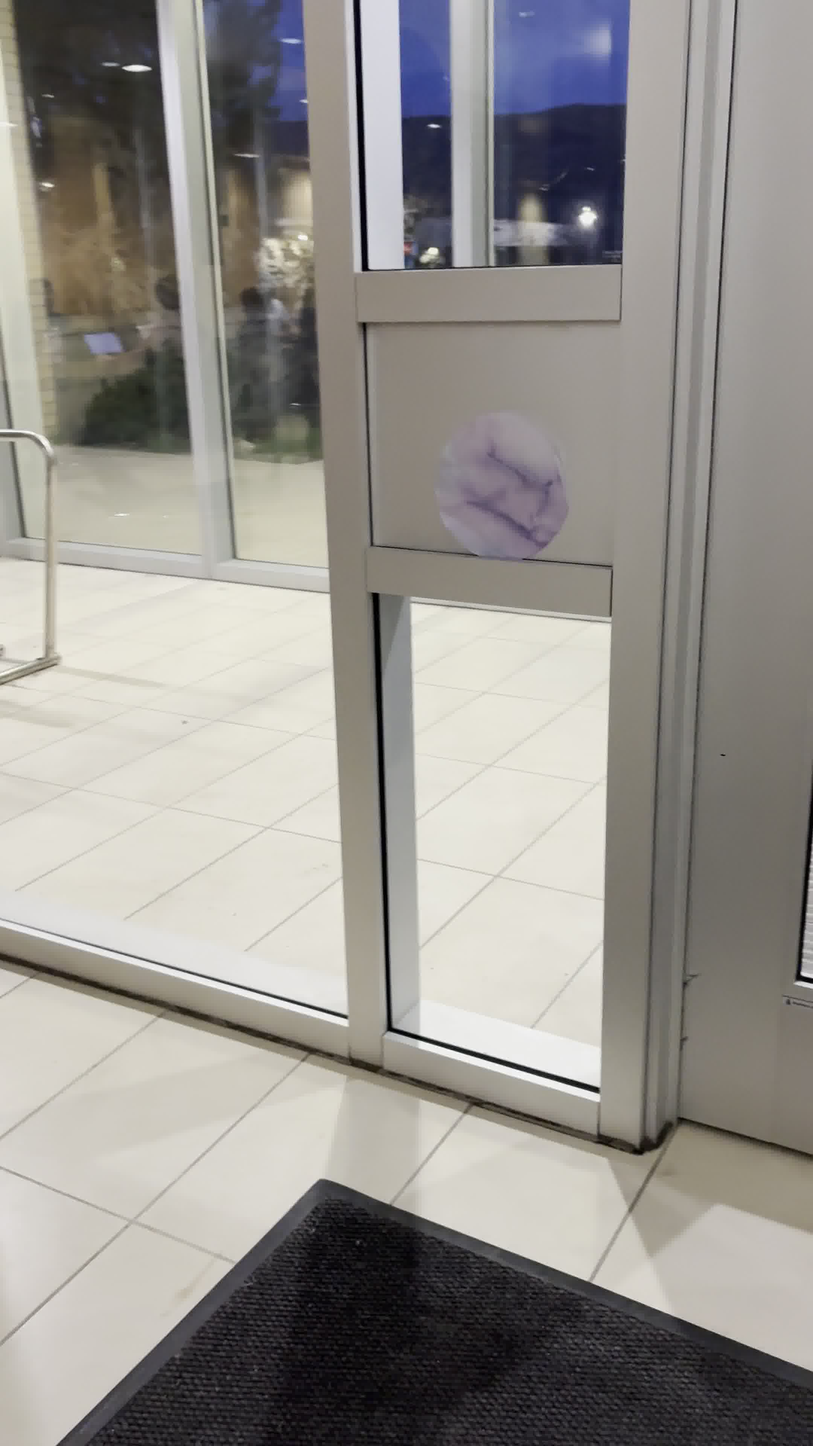Target: (431, 408, 573, 564)
